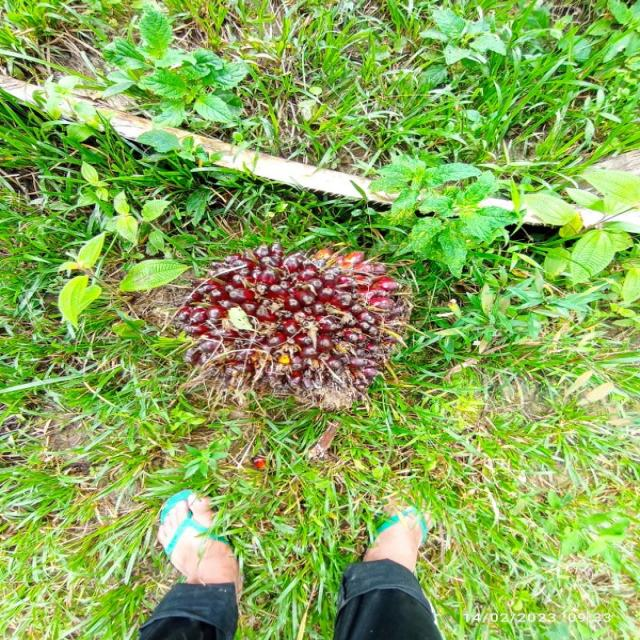fraksi 1: (91, 198, 508, 454)
